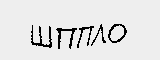Г: (94, 16, 109, 36)
М: (16, 18, 36, 35)
Р: (123, 21, 141, 39)
Ш: (35, 16, 73, 32)
Я: (74, 17, 93, 35)
Ү: (107, 18, 123, 37)
